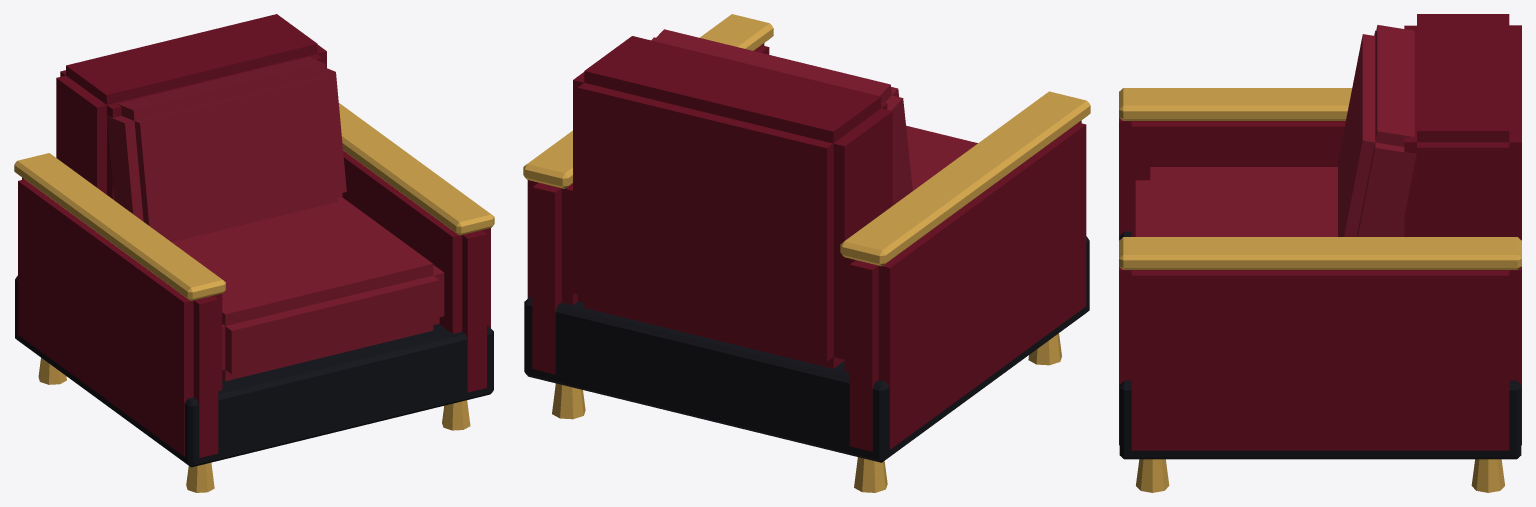
File: armchair.glb
3 renders of one model, left to right at view 1: azimuth 30°, elevation 25°; view 2: azimuth 150°, elevation 25°; view 3: azimuth 270°, elevation 25°, orthographic. The views are drawn at different scales.
Visible parts, largest first — view 1: armchair; view 2: armchair; view 3: armchair.
Boxes of the visible parts, bbox=[...] form: armchair: bbox=[14, 14, 494, 492]; armchair: bbox=[523, 14, 1090, 492]; armchair: bbox=[1119, 14, 1521, 492].
Bounding box in the file's own units: 0.96 × 0.9 × 0.96.
